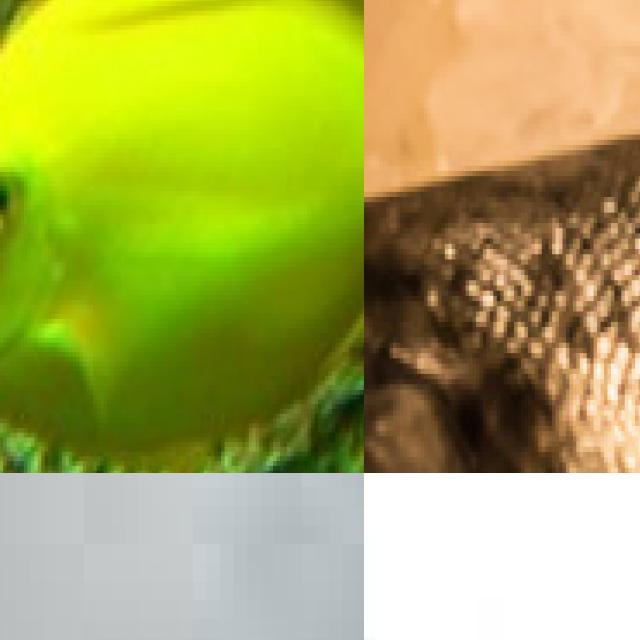fish: (0, 0, 364, 473), (364, 0, 640, 473), (364, 497, 640, 640)
